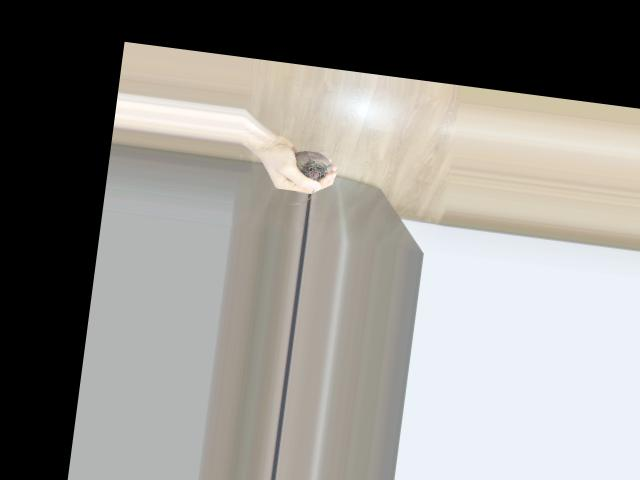beet: (288, 148, 334, 209)
